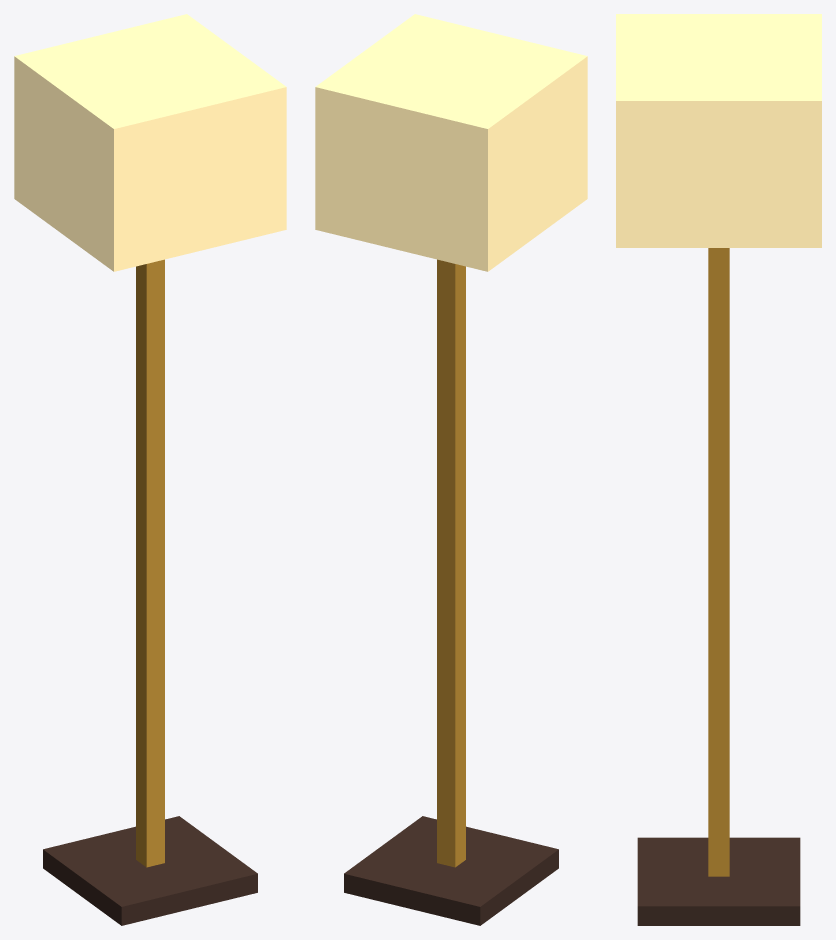
File: floor_lamp_5.glb
3 views of the same model, side by side, from view 1: azimuth 30°, elevation 25°; view 2: azimuth 150°, elevation 25°; view 3: azimuth 270°, elevation 25° (orthographic). The views are drawn at different scales.
Visible parts, largest first — view 1: Box3, Box2, Box1; view 2: Box3, Box2, Box1; view 3: Box3, Box2, Box1.
Part boxes in pixels (box(x1,y1,x2,y2)): Box3: box(14, 14, 286, 271); Box2: box(136, 259, 164, 867); Box1: box(43, 816, 257, 925); Box3: box(315, 14, 587, 271); Box2: box(437, 259, 465, 867); Box1: box(344, 816, 558, 925); Box3: box(616, 14, 821, 247); Box2: box(708, 248, 729, 876); Box1: box(637, 837, 800, 925).
Bounding box in the file's own units: 0.38 × 1.7 × 0.38.
